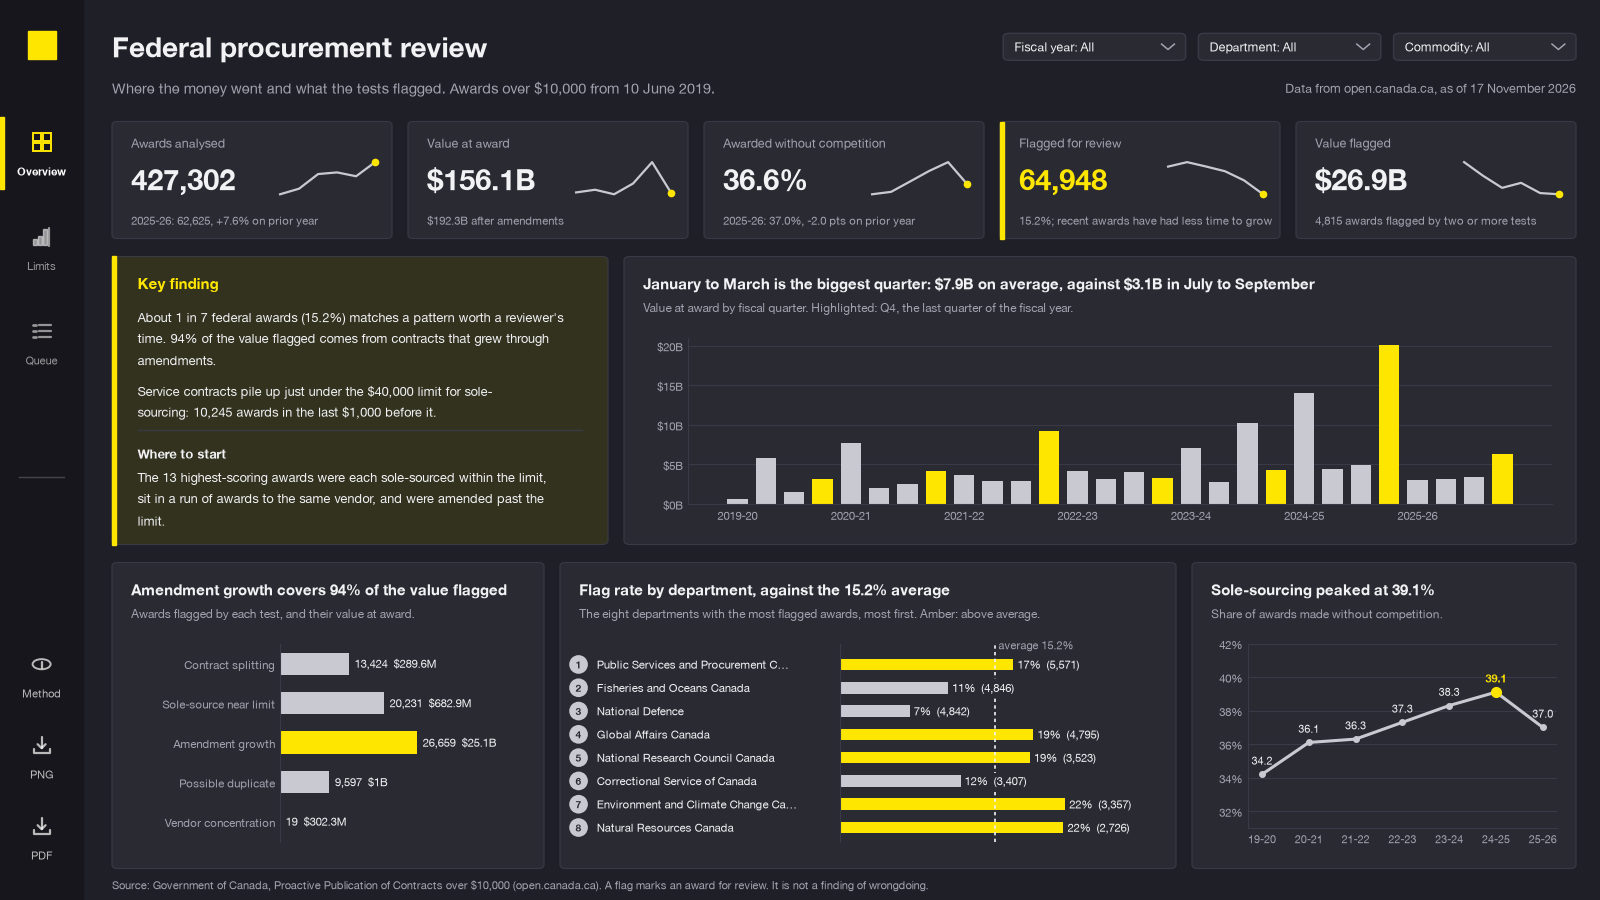

The dashboard page shown, as its layout file describes it:
{"tool":"tableau","page":{"name":"Overview","canvas":[1440,810],"ordinal":0},"visuals":[{"type":"blank","box":[0,0,75.6,810]},{"type":"filter","title":"Card: awards","param":"[awards].[none:fiscal_year:nk]","box":[901.8,16.2,165.6,41.4]},{"type":"filter","title":"Card: awards","param":"[awards].[none:department:nk]","box":[1077.3,16.2,165.6,41.4]},{"type":"filter","title":"Card: awards","param":"[awards].[none:commodity:nk]","box":[1252.8,16.2,165.6,41.4]},{"type":"text","box":[93.6,19.8,630,41.4]},{"type":"blank","box":[25.2,27,25.2,25.2]},{"type":"text","box":[93.6,64.8,882,25.2]},{"type":"text","box":[1062,64.8,360,25.2]},{"type":"blank","box":[0,106.2,3.6,64.8]},{"type":"blank","box":[100.8,108.9,252,105.3]},{"type":"blank","box":[367.2,108.9,252,105.3]},{"type":"blank","box":[633.6,108.9,252,105.3]},{"type":"blank","box":[900,108.9,252,105.3]},{"type":"blank","box":[900,108.9,3.6,105.3]},{"type":"blank","box":[1166.4,108.9,252,105.3]},{"type":"worksheet","title":"Card: awards","mark":"Text","box":[115.2,116.1,232.2,92.7]},{"type":"worksheet","title":"Card: value","mark":"Text","box":[381.6,116.1,232.2,92.7]},{"type":"worksheet","title":"Card: sole-sourced","mark":"Text","box":[648,116.1,232.2,92.7]},{"type":"worksheet","title":"Card: flagged","mark":"Text","box":[914.4,116.1,232.2,92.7]},{"type":"worksheet","title":"Card: value flagged","mark":"Text","box":[1180.8,116.1,232.2,92.7]},{"type":"text","box":[3.6,126,72,27]},{"type":"text","box":[3.6,210.6,72,27]},{"type":"blank","box":[100.8,231.3,446.4,259.2]},{"type":"blank","box":[100.8,231.3,3.6,259.2]},{"type":"blank","box":[561.6,231.3,856.8,259.2]},{"type":"worksheet","title":"Value by quarter","mark":"Bar","cols":["fiscal_year","fiscal_quarter"],"box":[576,242.1,828,237.6]},{"type":"text","box":[122.4,245.7,406.8,234]},{"type":"text","box":[3.6,295.2,72,27]},{"type":"blank","box":[100.8,506.7,388.8,270]},{"type":"blank","box":[504,506.7,554.4,270]},{"type":"blank","box":[1072.8,506.7,345.6,270]},{"type":"worksheet","title":"Flags by test","mark":"Bar","box":[115.2,517.5,360,248.4]},{"type":"worksheet","title":"Flag rate by department","mark":"Automatic","rows":["department"],"cols":["c_flag_rate"],"box":[518.4,517.5,525.6,248.4]},{"type":"worksheet","title":"Sole-sourced share by year","mark":"Bar","rows":["c_sole_share"],"cols":["c_year_short"],"box":[1087.2,517.5,316.8,248.4]},{"type":"text","box":[93.6,784.8,1260,21.6]}]}

Visuals, with their boxes on the page's 1440x810 design canvas (x1, y1, x2, y2). These are canvas units, not pixel positions in the 1600x900 screenshot, which may show the page scaled, cropped or inside an application window:
blank: bbox(0, 0, 76, 810)
"Card: awards" filter: bbox(902, 16, 1067, 58)
"Card: awards" filter: bbox(1077, 16, 1243, 58)
"Card: awards" filter: bbox(1253, 16, 1418, 58)
text: bbox(94, 20, 724, 61)
blank: bbox(25, 27, 50, 52)
text: bbox(94, 65, 976, 90)
text: bbox(1062, 65, 1422, 90)
blank: bbox(0, 106, 4, 171)
blank: bbox(101, 109, 353, 214)
blank: bbox(367, 109, 619, 214)
blank: bbox(634, 109, 886, 214)
blank: bbox(900, 109, 1152, 214)
blank: bbox(900, 109, 904, 214)
blank: bbox(1166, 109, 1418, 214)
"Card: awards" worksheet (Text marks): bbox(115, 116, 347, 209)
"Card: value" worksheet (Text marks): bbox(382, 116, 614, 209)
"Card: sole-sourced" worksheet (Text marks): bbox(648, 116, 880, 209)
"Card: flagged" worksheet (Text marks): bbox(914, 116, 1147, 209)
"Card: value flagged" worksheet (Text marks): bbox(1181, 116, 1413, 209)
text: bbox(4, 126, 76, 153)
text: bbox(4, 211, 76, 238)
blank: bbox(101, 231, 547, 490)
blank: bbox(101, 231, 104, 490)
blank: bbox(562, 231, 1418, 490)
"Value by quarter" worksheet (Bar marks): bbox(576, 242, 1404, 480)
text: bbox(122, 246, 529, 480)
text: bbox(4, 295, 76, 322)
blank: bbox(101, 507, 490, 777)
blank: bbox(504, 507, 1058, 777)
blank: bbox(1073, 507, 1418, 777)
"Flags by test" worksheet (Bar marks): bbox(115, 518, 475, 766)
"Flag rate by department" worksheet: bbox(518, 518, 1044, 766)
"Sole-sourced share by year" worksheet (Bar marks): bbox(1087, 518, 1404, 766)
text: bbox(94, 785, 1354, 806)
